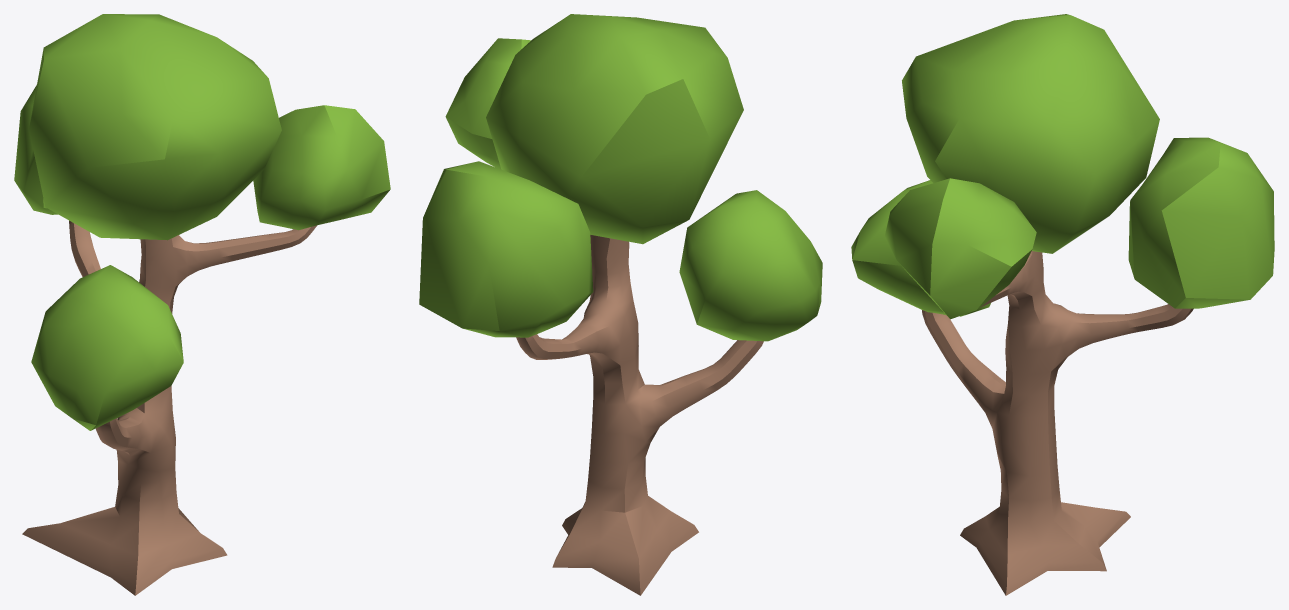
File: Tree2.fbx
3 views of the same model, side by side, from view 1: azimuth 30°, elevation 25°; view 2: azimuth 150°, elevation 25°; view 3: azimuth 270°, elevation 25° (orthographic).
Parts seen in each view (by area): view 1: Plane.002; view 2: Plane.002; view 3: Plane.002.
Part boxes in pixels (box(x1,y1,x2,y2)): Plane.002: box(14, 14, 390, 595); Plane.002: box(419, 14, 822, 595); Plane.002: box(851, 14, 1274, 595).
Size of the model in its own units: 5.97 by 8.95 by 6.4.
